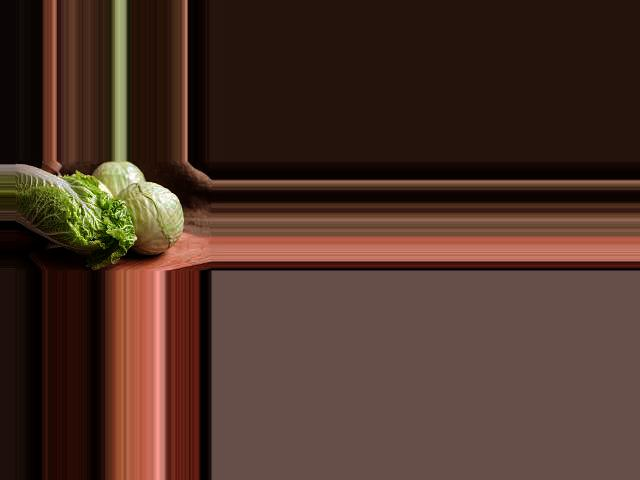lettuce: (22, 163, 187, 271)
